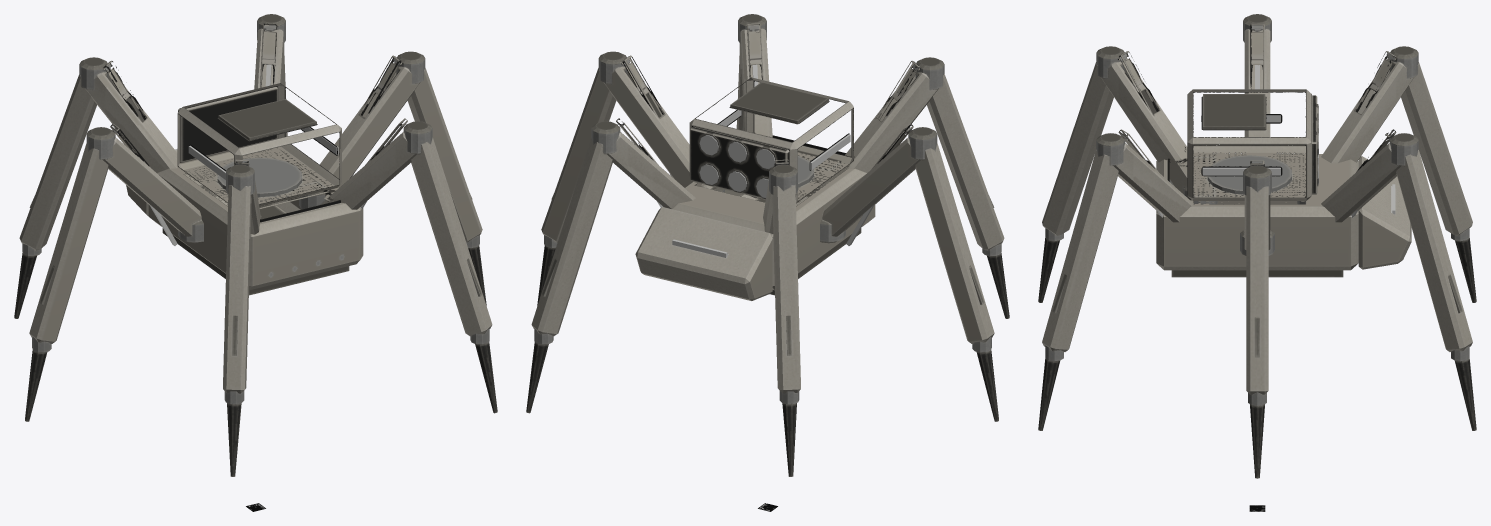
The model's file is ord_scaler.fbx.
3 views of the same model, side by side, from view 1: azimuth 30°, elevation 25°; view 2: azimuth 150°, elevation 25°; view 3: azimuth 270°, elevation 25° (orthographic).
Parts seen in each view (by area): view 1: base_bar, torso_bar, shinML_bar, shinBR_bar, shinBL_bar, shinFL_bar, thighMR_bar, thighML_bar, thighFL_bar, shinMR_bar, thighBR_bar, thighFR_bar (+2 smaller); view 2: base_bar, torso_bar, shinML_bar, shinFR_bar, shinFL_bar, shinBL_bar, thighMR_bar, thighML_bar, thighBL_bar, shinMR_bar, thighFR_bar, thighBR_bar (+3 smaller); view 3: base_bar, torso_bar, shinBR_bar, shinFR_bar, shinMR_bar, shinBL_bar, shinFL_bar, thighBL_bar, thighFL_bar, thighBR_bar, thighFR_bar, thighML_bar (+2 smaller).
Boxes of the visible parts, <box> form: base_bar: <box>126,149,363,295</box>; torso_bar: <box>177,83,341,206</box>; shinML_bar: <box>25,143,108,421</box>; shinBR_bar: <box>411,137,497,413</box>; shinBL_bar: <box>223,185,251,476</box>; shinFL_bar: <box>14,74,96,318</box>; thighMR_bar: <box>299,51,425,209</box>; thighML_bar: <box>86,124,203,243</box>; thighFL_bar: <box>79,57,209,192</box>; shinMR_bar: <box>407,68,486,305</box>; thighBR_bar: <box>320,118,432,209</box>; thighFR_bar: <box>254,14,285,157</box>; base_bar: <box>635,135,875,300</box>; torso_bar: <box>689,77,853,203</box>; shinML_bar: <box>915,143,998,421</box>; shinFR_bar: <box>526,137,612,413</box>; shinFL_bar: <box>772,185,800,476</box>; shinBL_bar: <box>927,74,1009,318</box>; thighMR_bar: <box>598,51,724,192</box>; thighML_bar: <box>820,124,937,243</box>; thighBL_bar: <box>814,57,944,192</box>; shinMR_bar: <box>537,68,616,305</box>; thighFR_bar: <box>591,118,695,209</box>; thighBR_bar: <box>738,14,772,198</box>; base_bar: <box>1156,154,1411,277</box>; torso_bar: <box>1187,89,1318,200</box>; shinBR_bar: <box>1038,150,1118,430</box>; shinFR_bar: <box>1396,150,1476,430</box>; shinMR_bar: <box>1246,186,1268,478</box>; shinBL_bar: <box>1038,62,1113,302</box>; shinFL_bar: <box>1401,62,1476,302</box>; thighBL_bar: <box>1096,46,1217,204</box>; thighFL_bar: <box>1297,46,1418,204</box>; thighBR_bar: <box>1096,129,1193,222</box>; thighFR_bar: <box>1321,129,1418,222</box>; thighML_bar: <box>1243,14,1271,136</box>.
Bounding box in the file's own units: 686 × 590 × 563.
2 materials, 2 textured.
